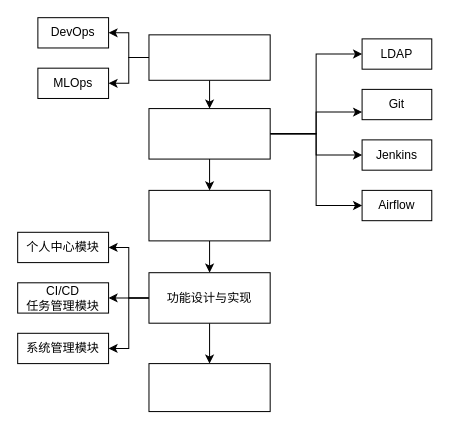
Some shapes in this 449 by 429 pixel diagram are drawn without their labels. The box of each missing label's shape, as (x1, y1, x2, y2) in pixels:
MLOps工具链筛选: (148, 108, 270, 159)
相关理论梳理: (148, 34, 270, 80)
系统测试与结论: (148, 363, 270, 412)
需求分析与概要设计: (148, 189, 270, 241)
